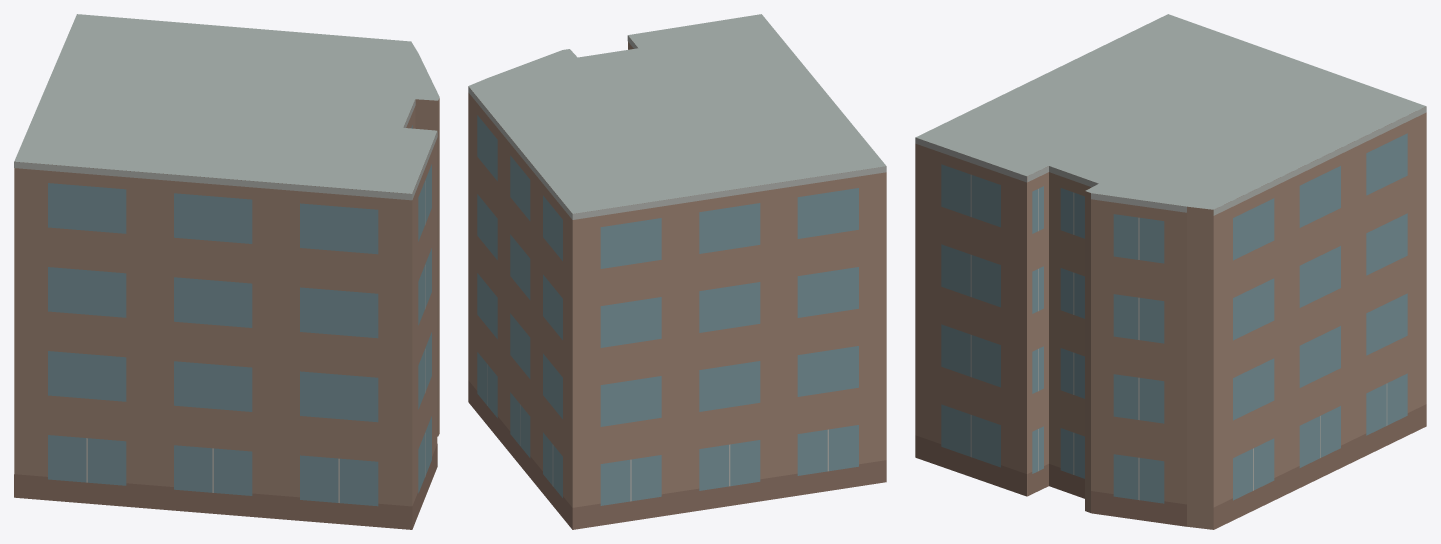
Rendered from survey-upis-32922861.glb.
3 renders of one model, left to right at view 1: azimuth 30°, elevation 25°; view 2: azimuth 150°, elevation 25°; view 3: azimuth 270°, elevation 25°, orthographic. The views are drawn at different scales.
Parts seen in each view (by area): view 1: survey-upis-32922861.tmp; view 2: survey-upis-32922861.tmp; view 3: survey-upis-32922861.tmp.
Boxes of the visible parts, x1,y1,x2,y2 form: survey-upis-32922861.tmp: (14, 14, 439, 529); survey-upis-32922861.tmp: (468, 14, 886, 529); survey-upis-32922861.tmp: (915, 14, 1426, 529).
Bounding box in the file's own units: 16.66 × 12.7 × 18.38.
